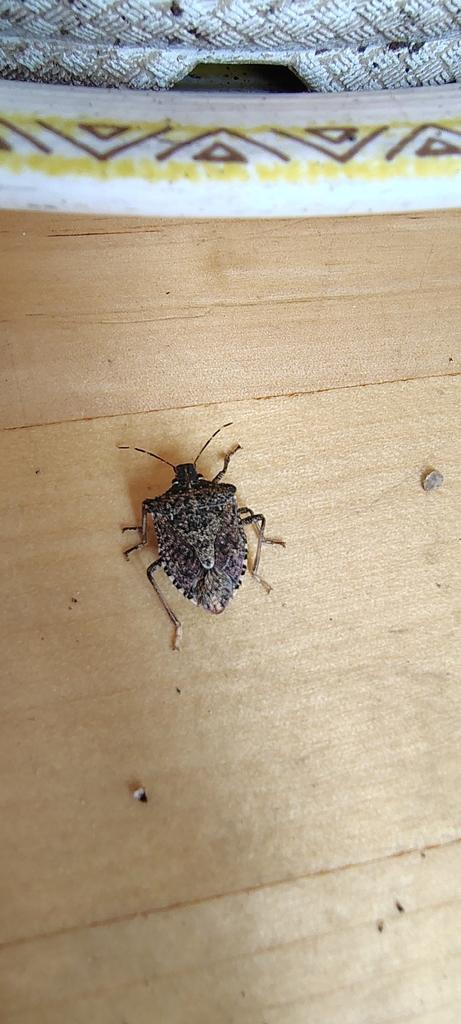stink_bugs: (85, 403, 311, 681)
